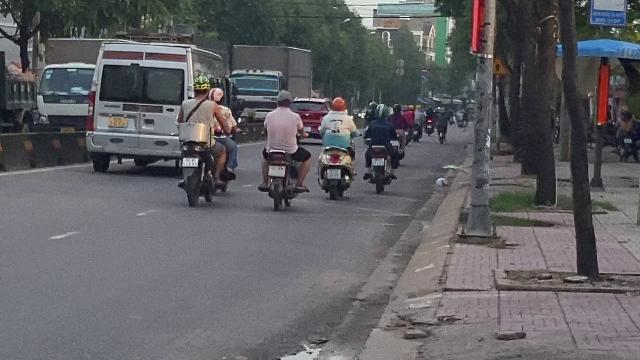helmet: (190, 75, 210, 95), (329, 96, 346, 112), (208, 87, 224, 103)
licenseplate: (269, 165, 285, 175), (328, 169, 340, 179), (182, 158, 196, 166)
motorcyclist: (175, 74, 238, 206), (255, 89, 312, 209), (315, 96, 359, 198)
nohelmet: (274, 89, 292, 107)
